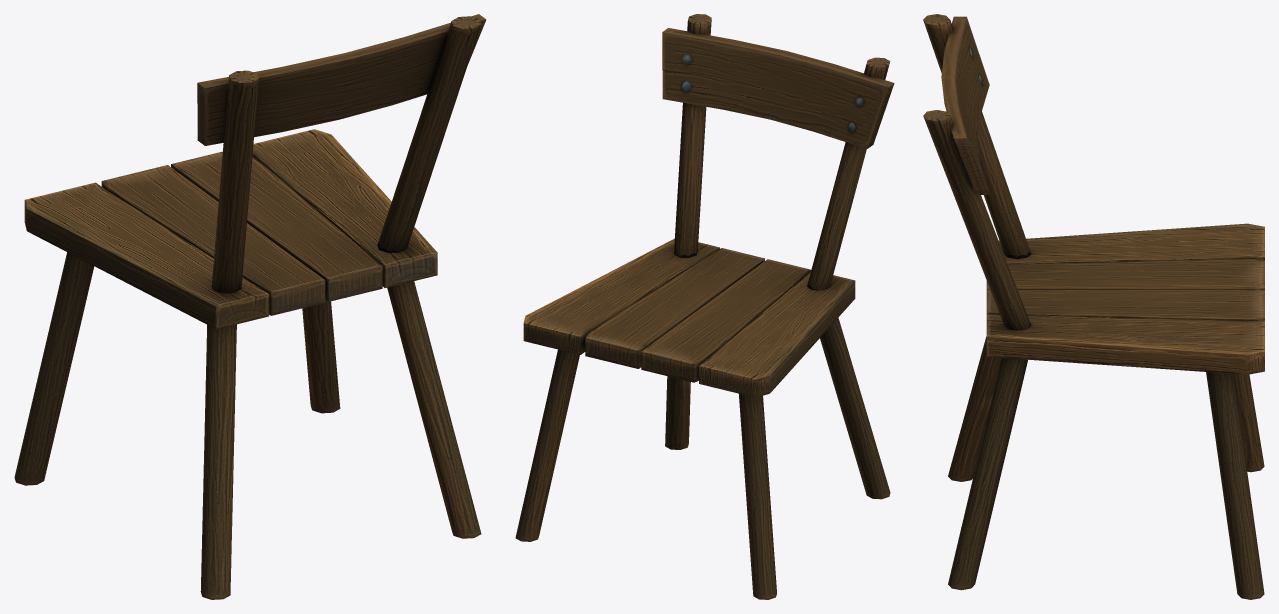
File: Chair_1.fbx
3 views of the same model, side by side, from view 1: azimuth 30°, elevation 25°; view 2: azimuth 150°, elevation 25°; view 3: azimuth 270°, elevation 25° (orthographic). The views are drawn at different scales.
Visible parts, largest first — view 1: Cube.105; view 2: Cube.105; view 3: Cube.105.
Part boxes in pixels (x1,y1,x2,y2): Cube.105: (14,14,486,599); Cube.105: (515,14,894,599); Cube.105: (923,14,1264,599).
Bounding box in the file's own units: 71.24 × 110 × 73.94.
